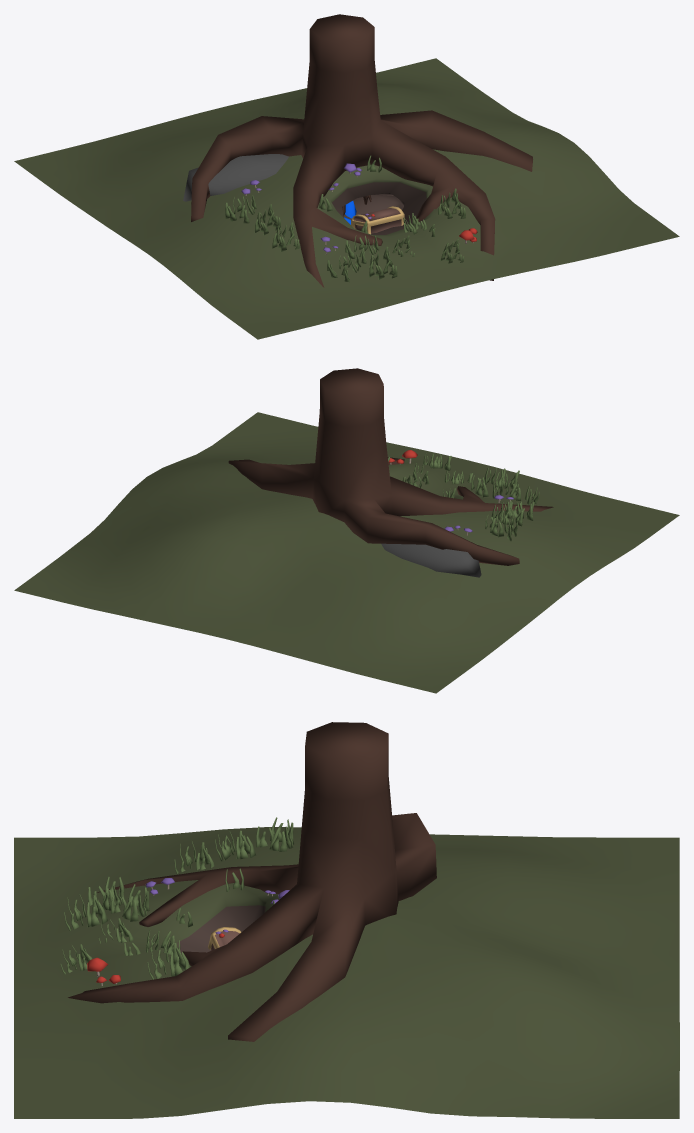
File: treasure_smooth.gltf
3 renders of one model, top to bottom at view 1: azimuth 30°, elevation 25°; view 2: azimuth 150°, elevation 25°; view 3: azimuth 270°, elevation 25°, orthographic. The views are drawn at different scales.
Visible parts, largest first — view 1: Floor, Tree, Rock_003, chest; view 2: Floor, Tree, Rock_003; view 3: Floor, Tree.
Boxes of the visible parts, left/top/right/bottom form: Floor: left=14, top=58, right=679, bottom=339; Tree: left=191, top=14, right=532, bottom=287; Rock_003: left=183, top=154, right=288, bottom=201; chest: left=351, top=206, right=404, bottom=234; Floor: left=14, top=412, right=679, bottom=693; Tree: left=228, top=368, right=553, bottom=565; Rock_003: left=381, top=543, right=481, bottom=577; Floor: left=14, top=827, right=679, bottom=1118; Tree: left=68, top=722, right=436, bottom=1041.
Bounding box in the file's own units: 15.15 × 6.85 × 15.01.
